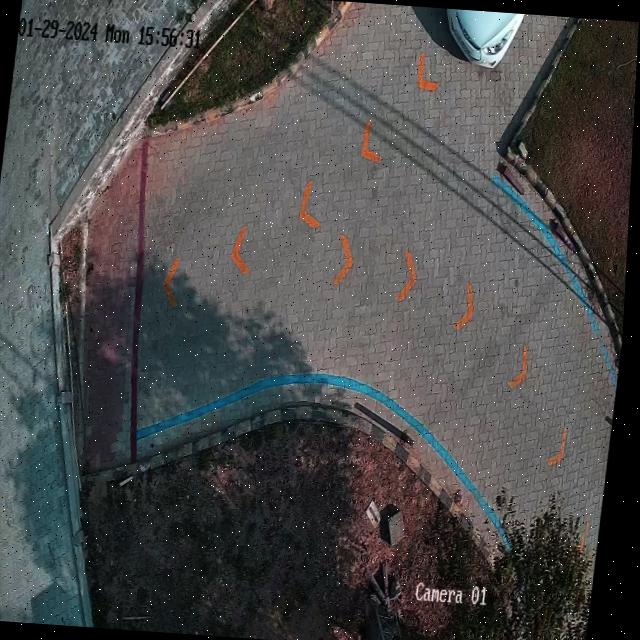car: (446, 9, 526, 70)
